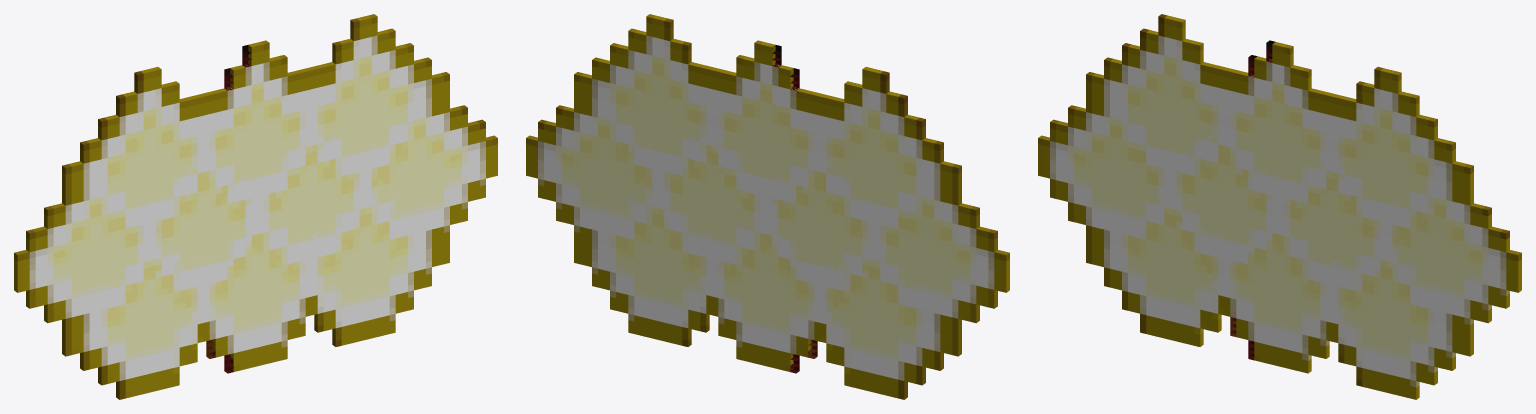
Rendered from thornsrelic.fbx.
3 views of the same model, side by side, from view 1: azimuth 30°, elevation 25°; view 2: azimuth 150°, elevation 25°; view 3: azimuth 330°, elevation 25° (orthographic).
Visible parts, largest first — view 1: thornsrelic; view 2: thornsrelic; view 3: thornsrelic.
Part boxes in pixels (x1,y1,x2,y2): thornsrelic: [14, 14, 497, 399]; thornsrelic: [526, 14, 1009, 399]; thornsrelic: [1038, 14, 1521, 399].
Bounding box in the file's own units: 7900 × 5036 × 98.75.
